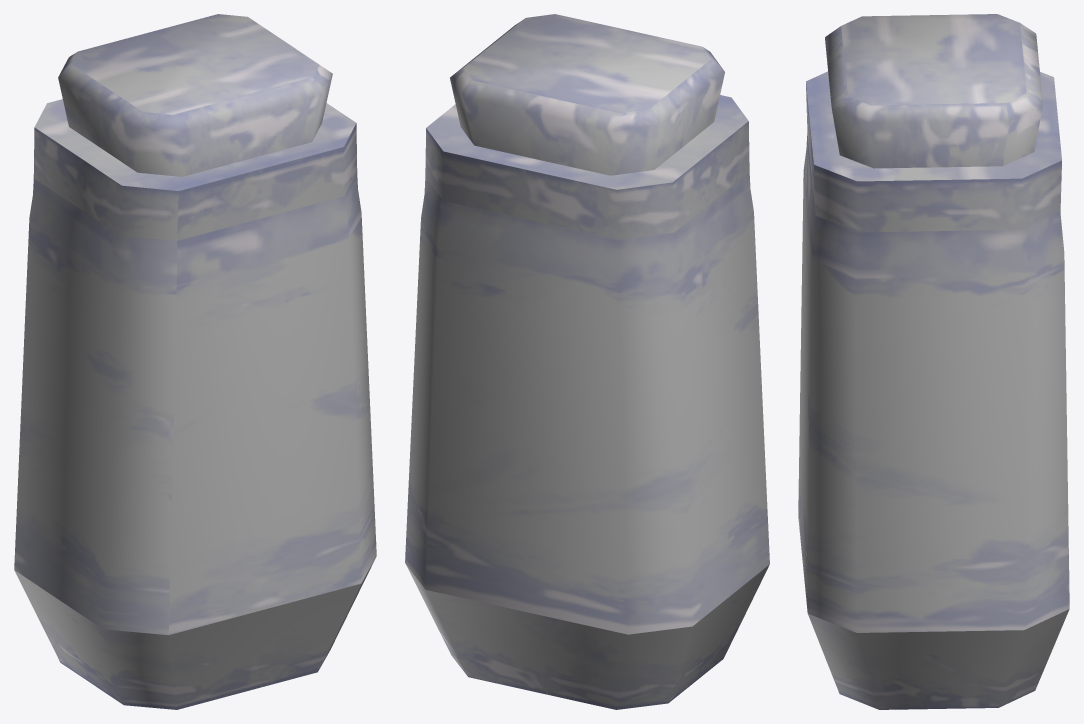
Rendered from SmallBottle.fbx.
3 renders of one model, left to right at view 1: azimuth 30°, elevation 25°; view 2: azimuth 150°, elevation 25°; view 3: azimuth 270°, elevation 25°, orthographic.
Parts seen in each view (by area): view 1: SmallBottle; view 2: SmallBottle; view 3: SmallBottle.
Part boxes in pixels (left/top/right/bottom): SmallBottle: left=14, top=14, right=376, bottom=709; SmallBottle: left=405, top=14, right=769, bottom=709; SmallBottle: left=798, top=14, right=1069, bottom=709.
Size of the model in its own units: 6.04 by 11.95 by 4.92.
